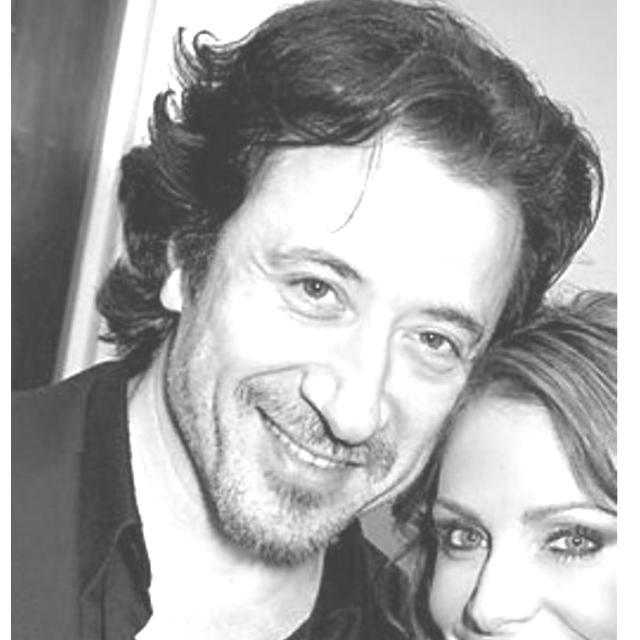real: (156, 112, 531, 568), (414, 392, 618, 640)
